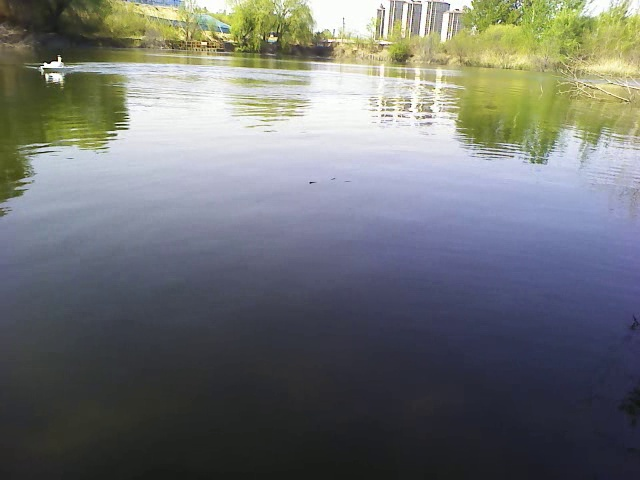boat: (40, 53, 77, 72)
